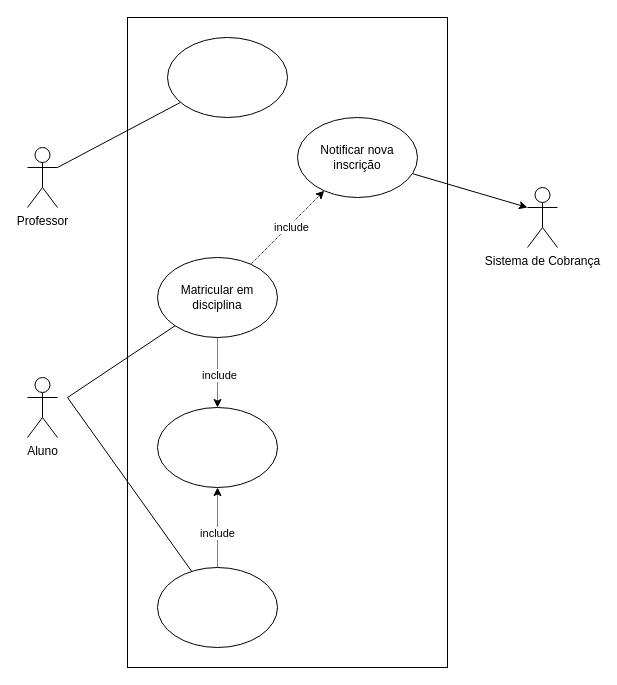
Some shapes in this 617 by 685 pixel diagram are drawn without their labels. Here are the shapes that lost their labels. From the top down, the centre of each, then its label:
At (x=227, y=77): "Visualizar matrículas".
At (x=217, y=447): "Login".
At (x=217, y=607): "Cancelar matrícula".
